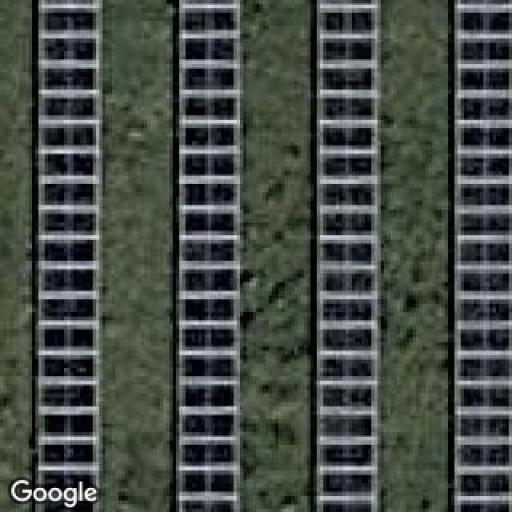solar-panel: (312, 0, 379, 512), (453, 5, 512, 512), (42, 0, 100, 509), (180, 5, 238, 512)
